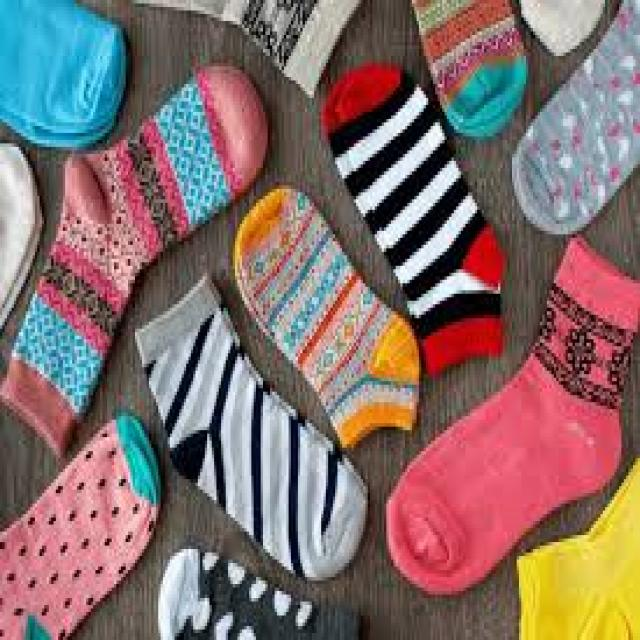sock: (0, 56, 268, 458), (384, 231, 638, 594)
